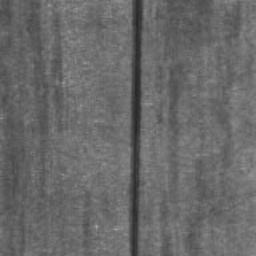Scratches: (130, 0, 144, 256)
